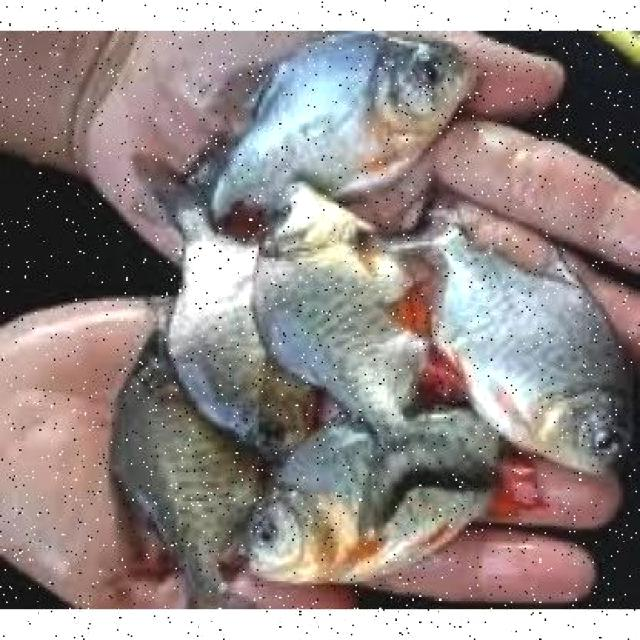ikan-pacu: (409, 215, 640, 477), (168, 28, 474, 205), (244, 180, 439, 429), (257, 410, 497, 584)
